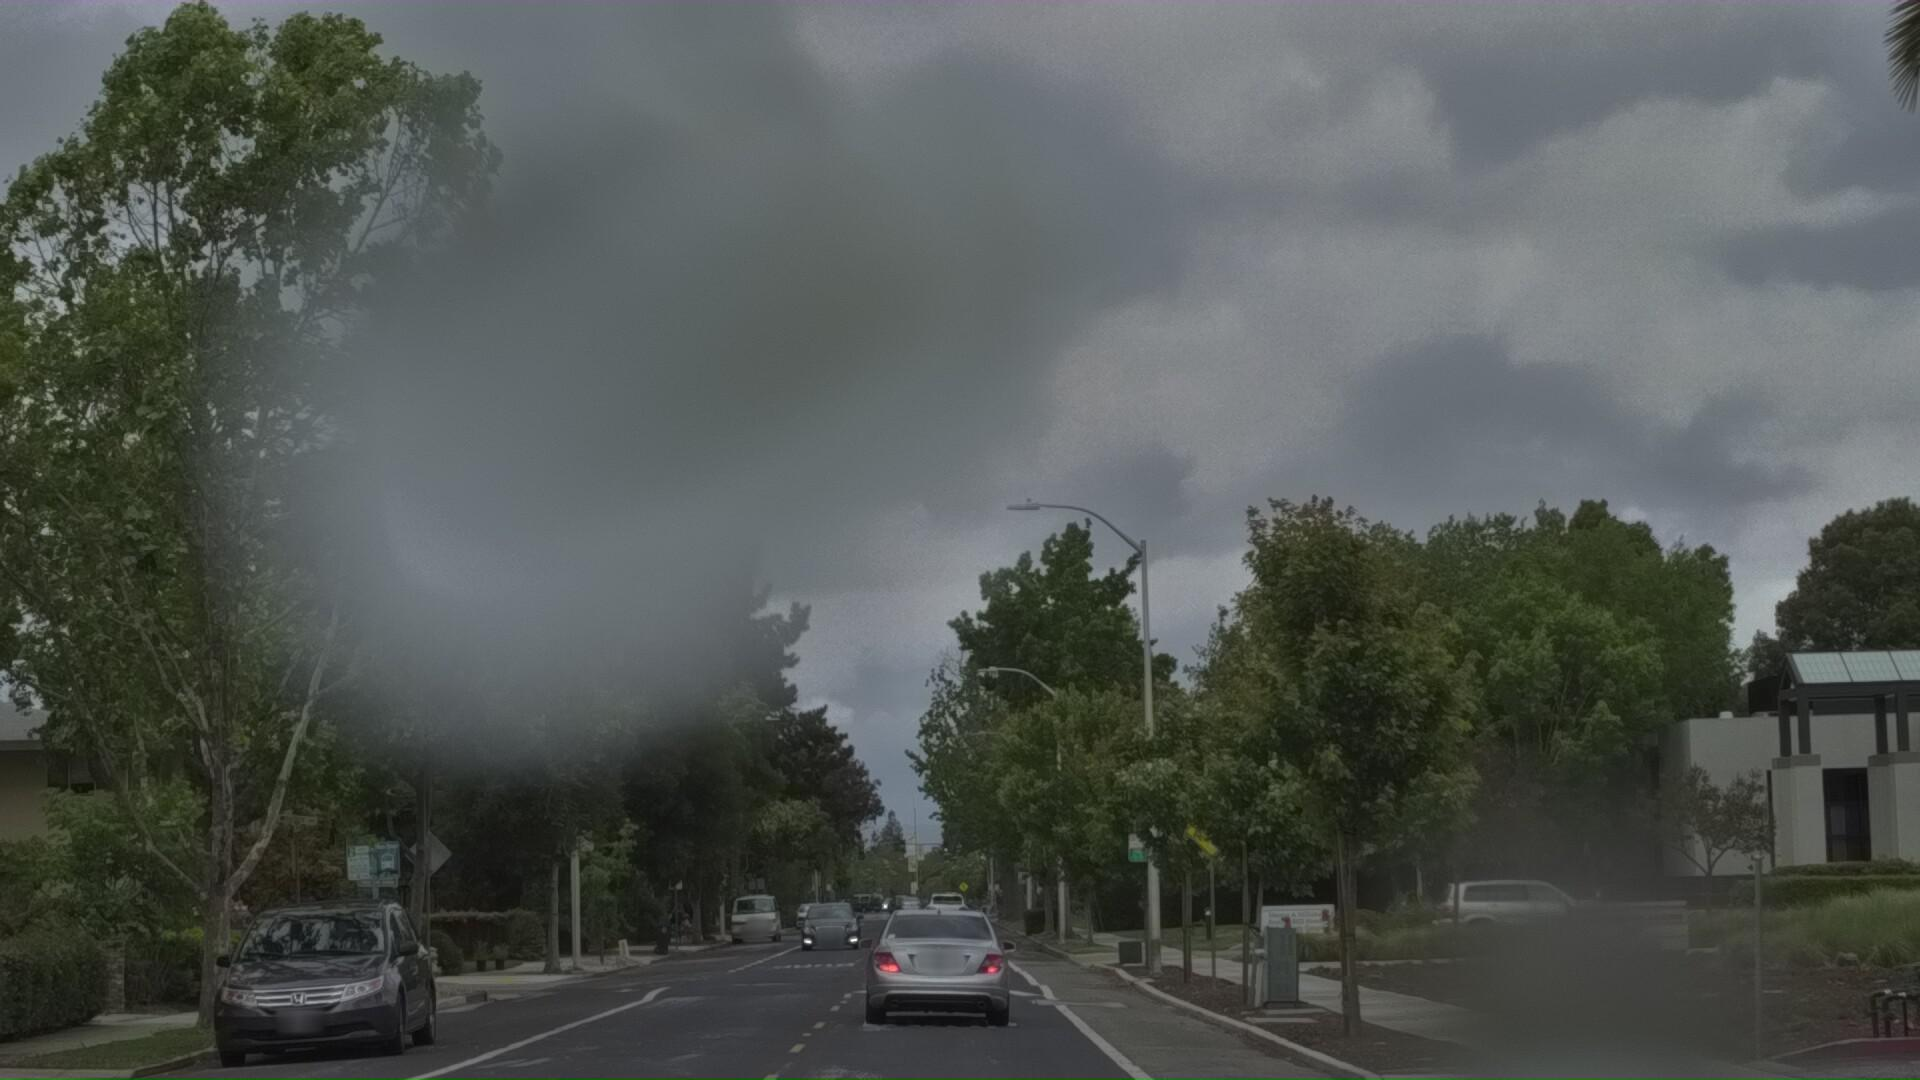car: (216, 918, 463, 1080), (856, 931, 1015, 1080), (1394, 911, 1619, 989)
